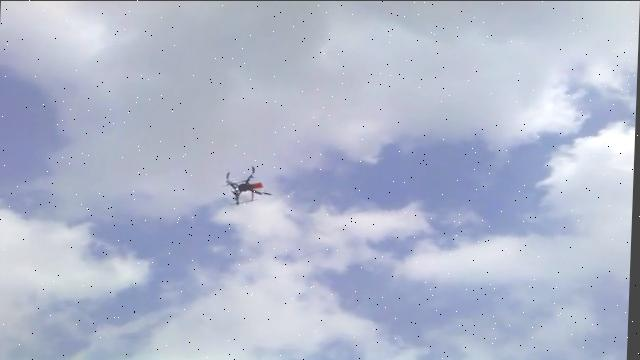drone: (224, 162, 275, 204)
